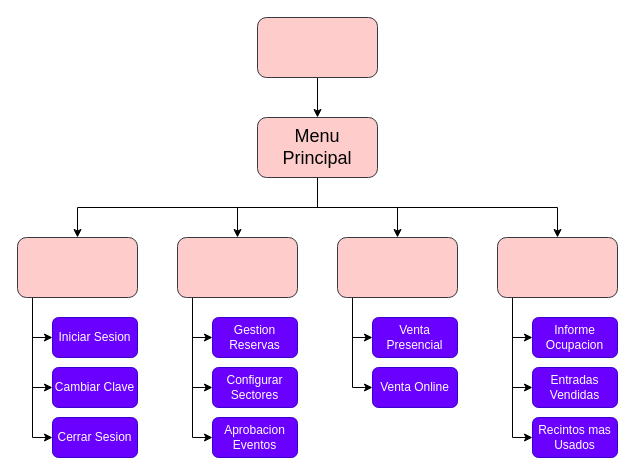
Image size: 635x475. Some labels were removed from this diagram. Each missing label, with the centre of its shape:
"Admin" belongs at point 237,267.
"Banda" belongs at point 77,267.
"Login" belongs at point 317,47.
"Reportes" belongs at point 557,267.
"Ventas" belongs at point 397,267.
